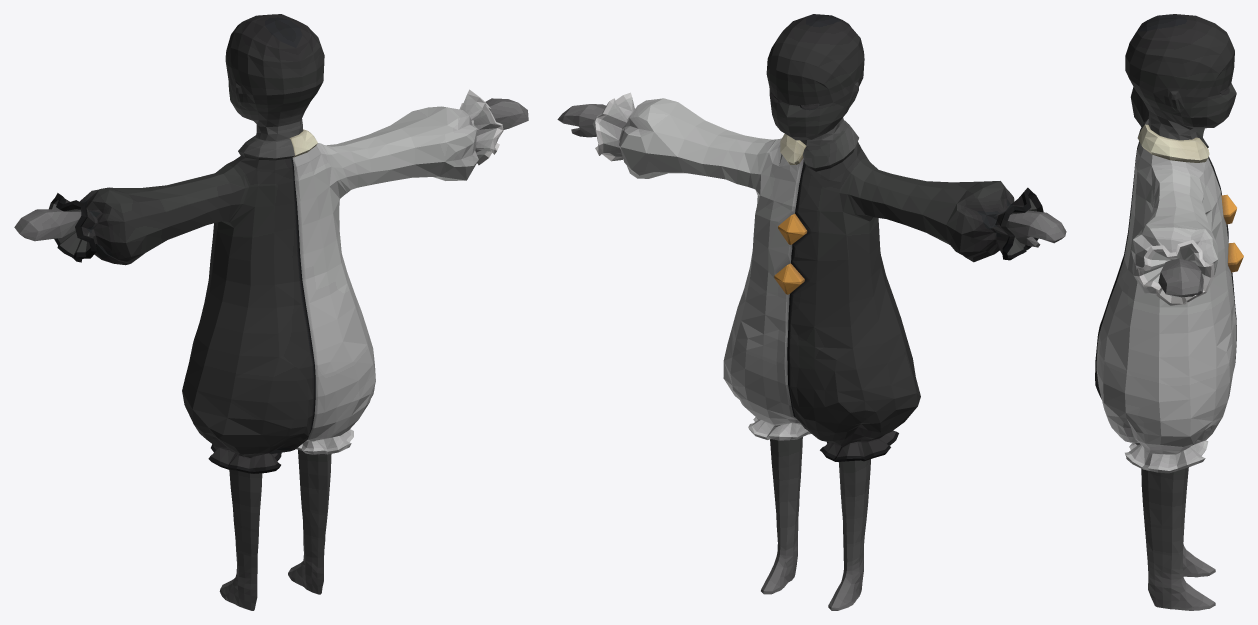
The model's file is CharSkyKid_Body_AP30Romper.glb.
The picture shows the model from 3 angles, left to right: view 1: azimuth 30°, elevation 25°; view 2: azimuth 150°, elevation 25°; view 3: azimuth 270°, elevation 25°; orthographic projection.
Parts seen in each view (by area): view 1: CharSkyKid_Body_AP30Romper; view 2: CharSkyKid_Body_AP30Romper; view 3: CharSkyKid_Body_AP30Romper.
Boxes of the visible parts, <box> form: CharSkyKid_Body_AP30Romper: <box>14,14,528,610</box>; CharSkyKid_Body_AP30Romper: <box>557,14,1066,610</box>; CharSkyKid_Body_AP30Romper: <box>1095,14,1243,610</box>.
Size of the model in its own units: 13.83 by 14.94 by 3.53.
Materials: 1 (1 with a texture image).
